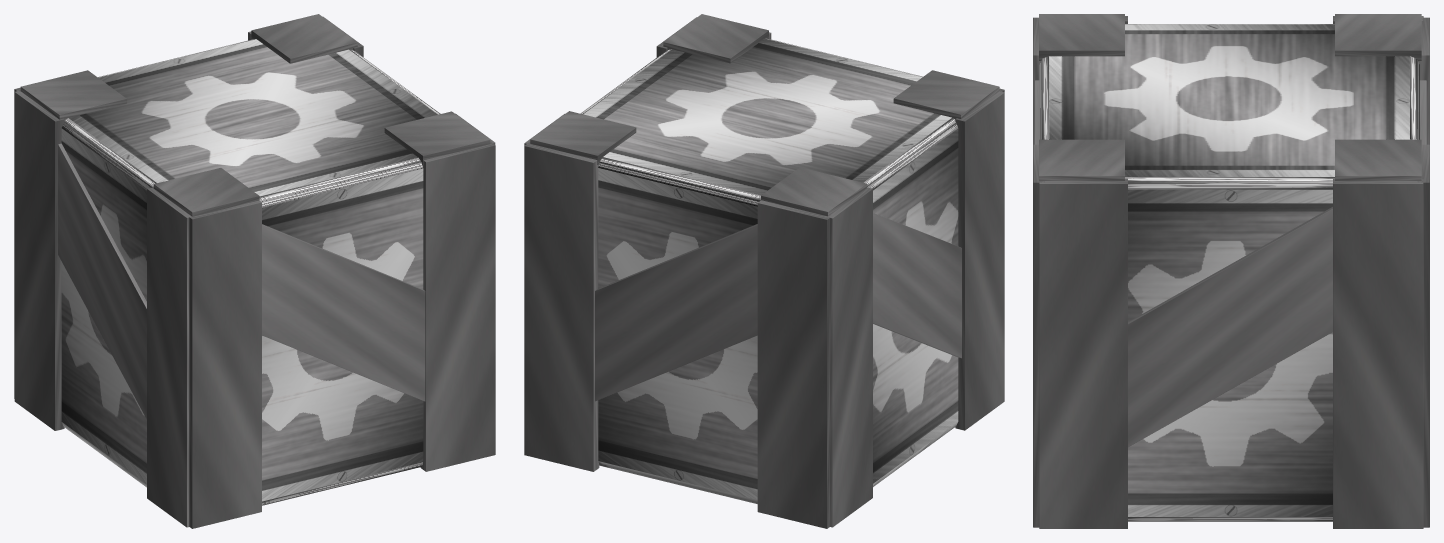
Rendered from CrateMechanical.fbx.
The picture shows the model from 3 angles, left to right: view 1: azimuth 30°, elevation 25°; view 2: azimuth 150°, elevation 25°; view 3: azimuth 270°, elevation 25°; orthographic projection. The views are drawn at different scales.
Visible parts, largest first — view 1: CornerPlanks, CrateMain, SidePlanks; view 2: CornerPlanks, CrateMain, SidePlanks; view 3: CrateMain, CornerPlanks, SidePlanks.
Part boxes in pixels (left/top/right/bottom): CornerPlanks: left=14, top=14, right=495, bottom=528; CrateMain: left=61, top=39, right=440, bottom=505; SidePlanks: left=58, top=143, right=425, bottom=419; CornerPlanks: left=524, top=14, right=1004, bottom=528; CrateMain: left=580, top=38, right=958, bottom=503; SidePlanks: left=595, top=213, right=961, bottom=401; CrateMain: left=1039, top=24, right=1419, bottom=521; CornerPlanks: left=1033, top=14, right=1429, bottom=528; SidePlanks: left=1035, top=80, right=1426, bottom=447.
Bounding box in the file's own units: 124 × 120 × 124.
